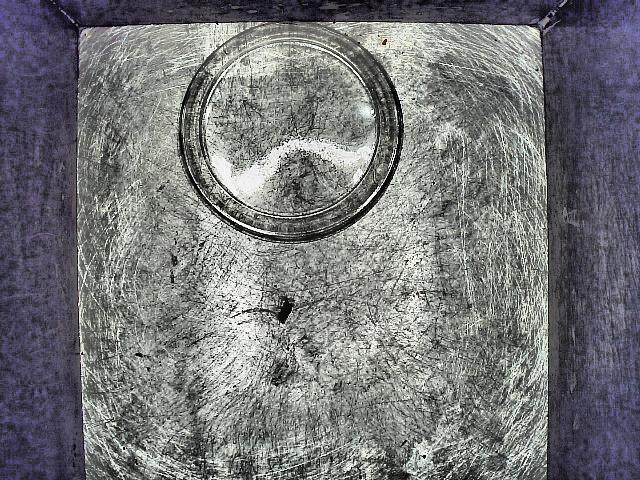Plastic: (176, 20, 411, 248)
